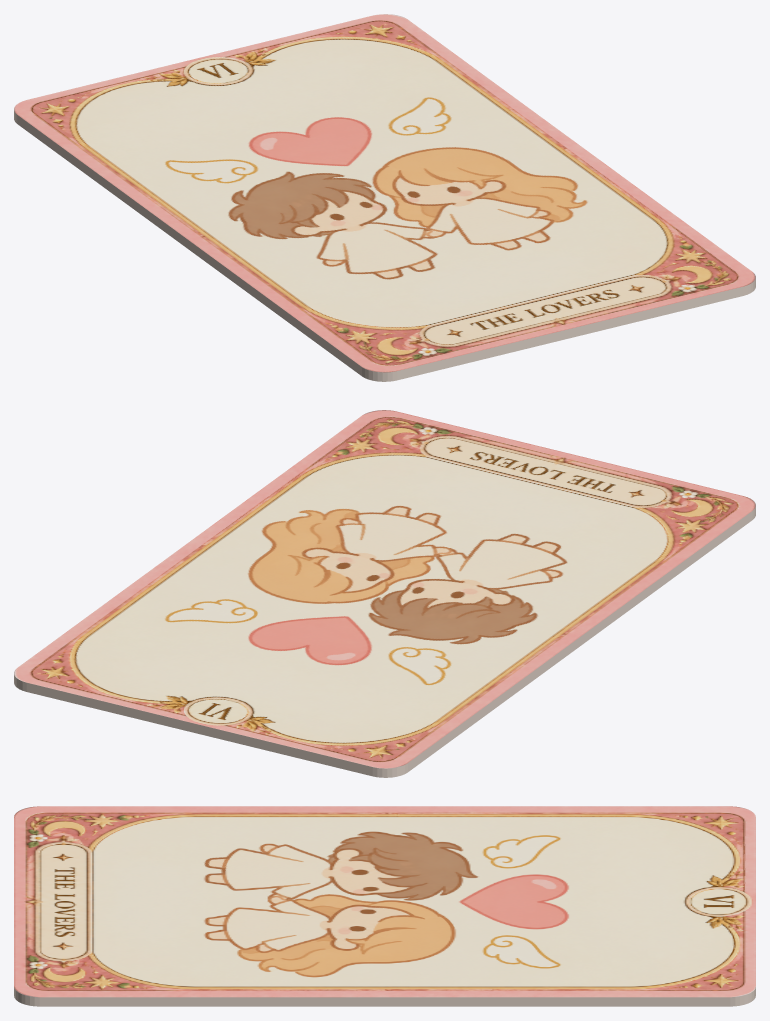
Rendered from lovers.fbx.
The picture shows the model from 3 angles, top to bottom: view 1: azimuth 30°, elevation 25°; view 2: azimuth 150°, elevation 25°; view 3: azimuth 270°, elevation 25°; orthographic projection.
Parts seen in each view (by area): view 1: lovers; view 2: lovers; view 3: lovers.
Part boxes in pixels (x1=…): lovers: x1=14, y1=14, x2=755, y2=381; lovers: x1=14, y1=410, x2=755, y2=777; lovers: x1=14, y1=806, x2=755, y2=1006.
Bounding box in the file's own units: 7 × 0.16 × 11.5.
3 materials, 2 textured.
